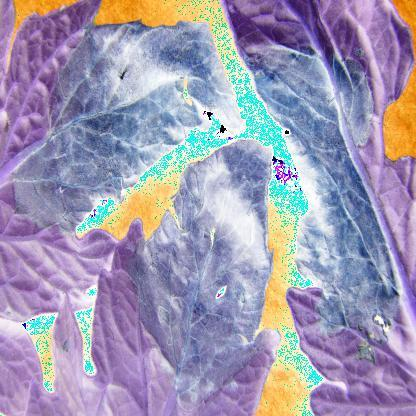Tomato leaf mosaic virus: (0, 2, 231, 320), (48, 136, 292, 414)
